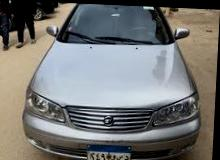License_Plate: (84, 141, 136, 160)
